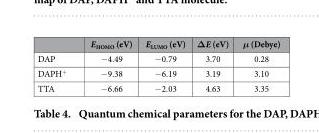table: (36, 36, 279, 93)
table column: (77, 36, 138, 93), (138, 36, 190, 93), (234, 36, 279, 93), (190, 36, 234, 93), (36, 36, 77, 93)
table column header: (36, 36, 279, 51)
table row: (36, 36, 279, 51), (36, 65, 279, 80), (36, 51, 279, 65), (36, 80, 279, 93)
